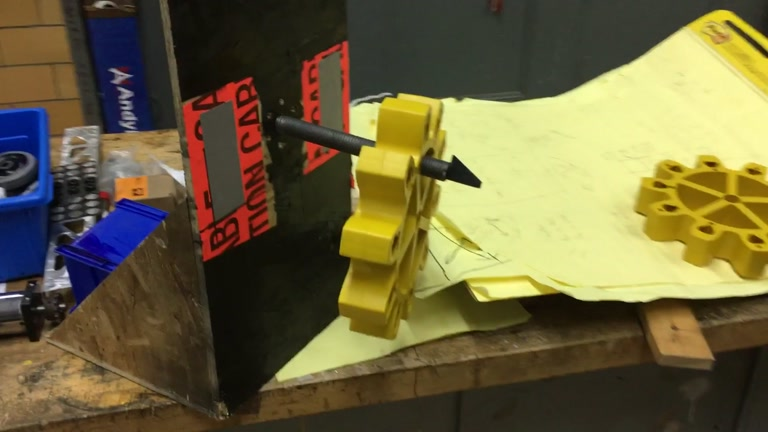gear: (336, 93, 447, 342), (631, 153, 767, 282)
